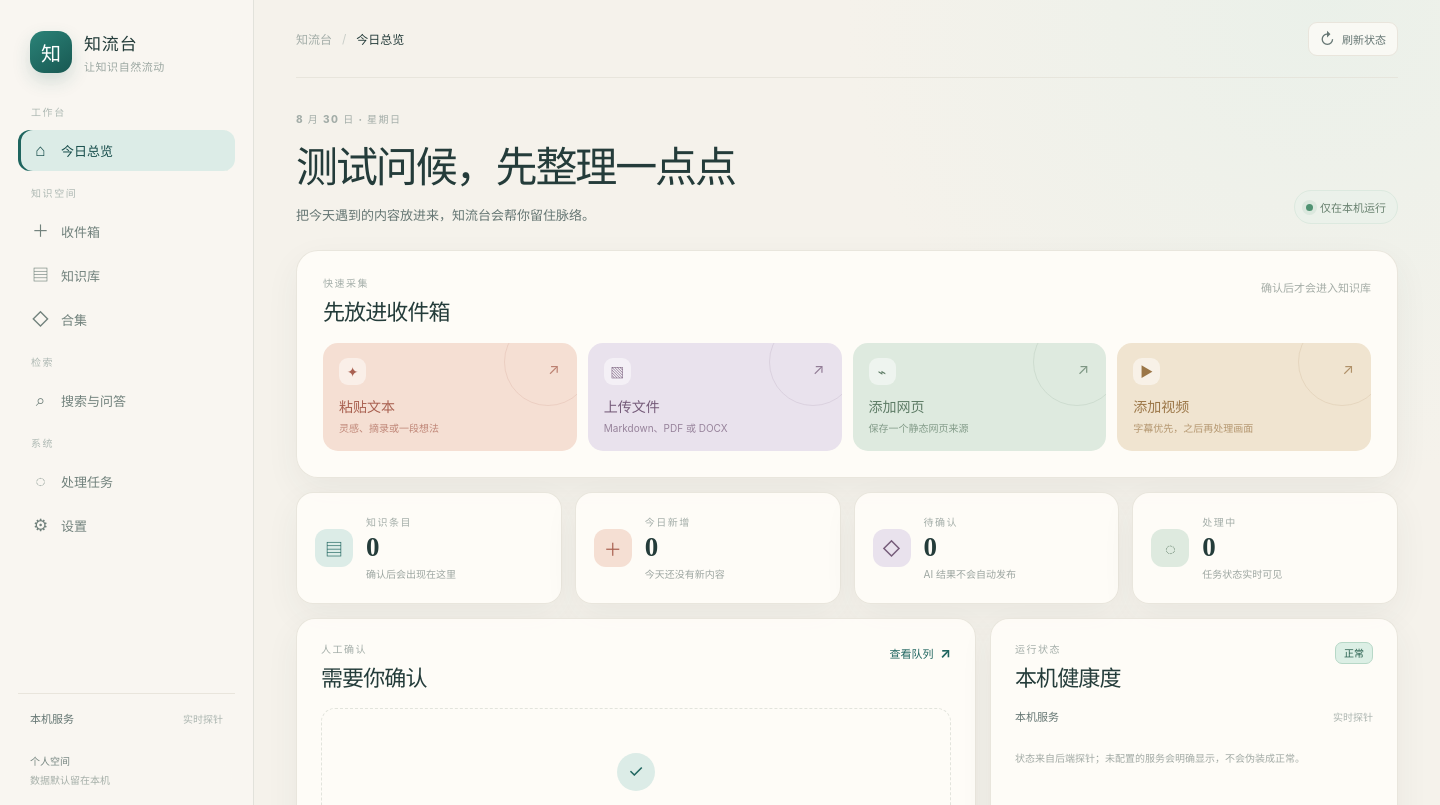
Scenario: 批次 A 统一采集 › 首页 添加网页 入口导航并预选 网页 模式
The width and height of the screenshot is (1440, 805).
Expected: the heading "测试问候，先整理一点点" is shown, [296,133,735,194]
Click the button "⌁ 添加网页 保存一个静态网页来源 ↗": {"x": 979, "y": 397} [852,343,1106,451]
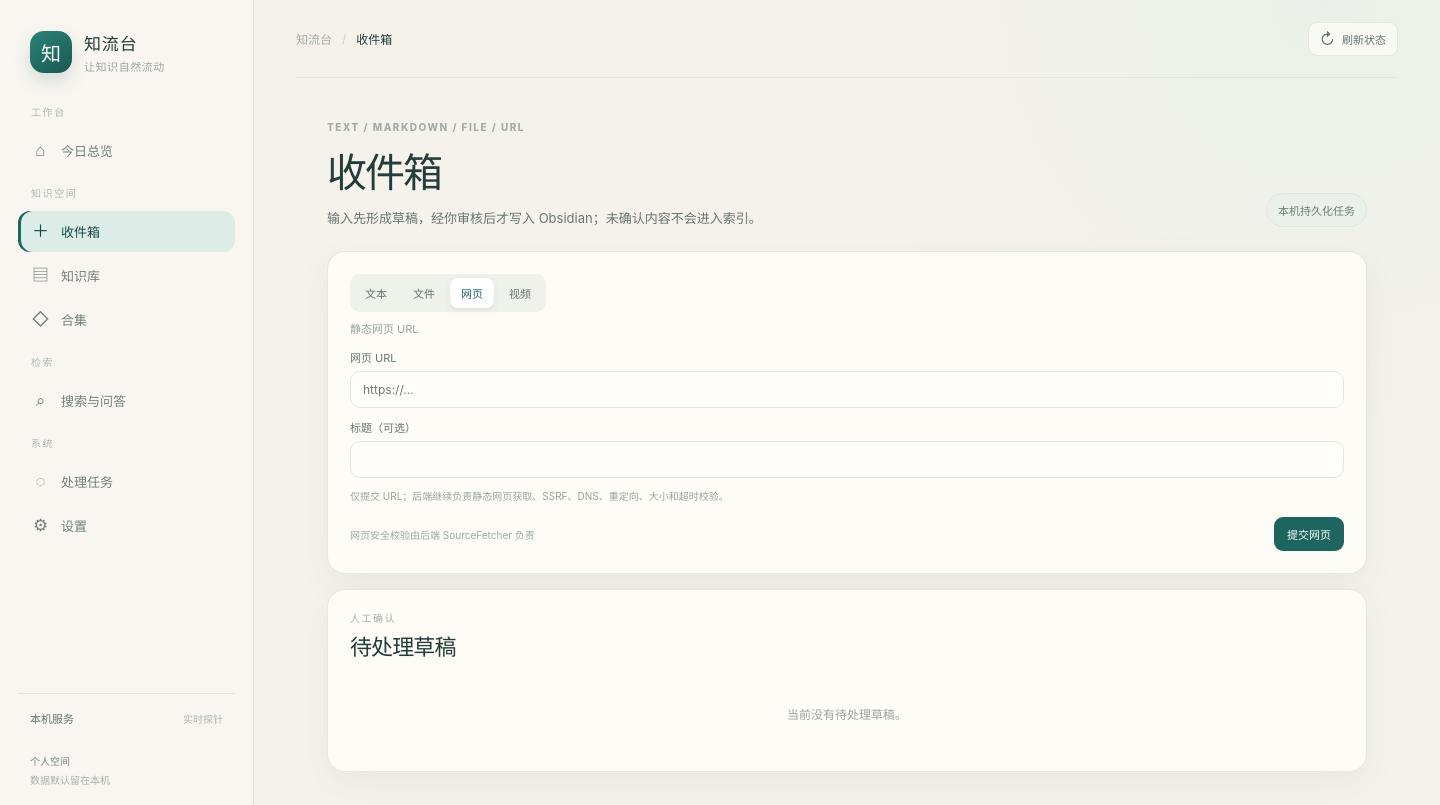
Now the heading "收件箱" is shown, box [327,151,441,196]
